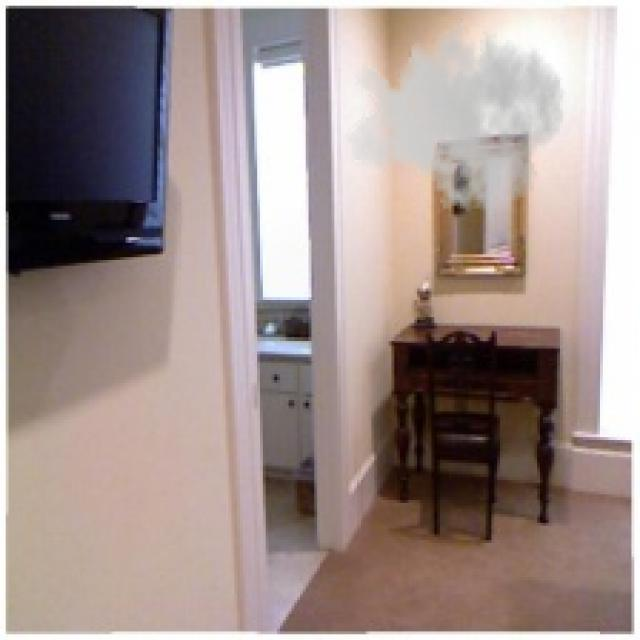Smoke: (346, 8, 566, 223)
